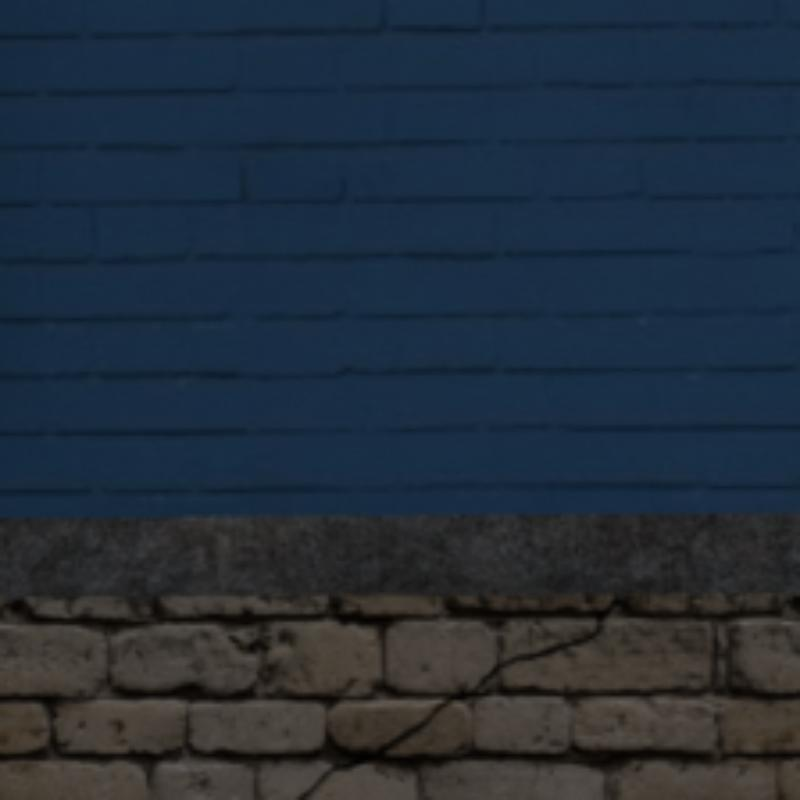pothole: (296, 596, 625, 796)
